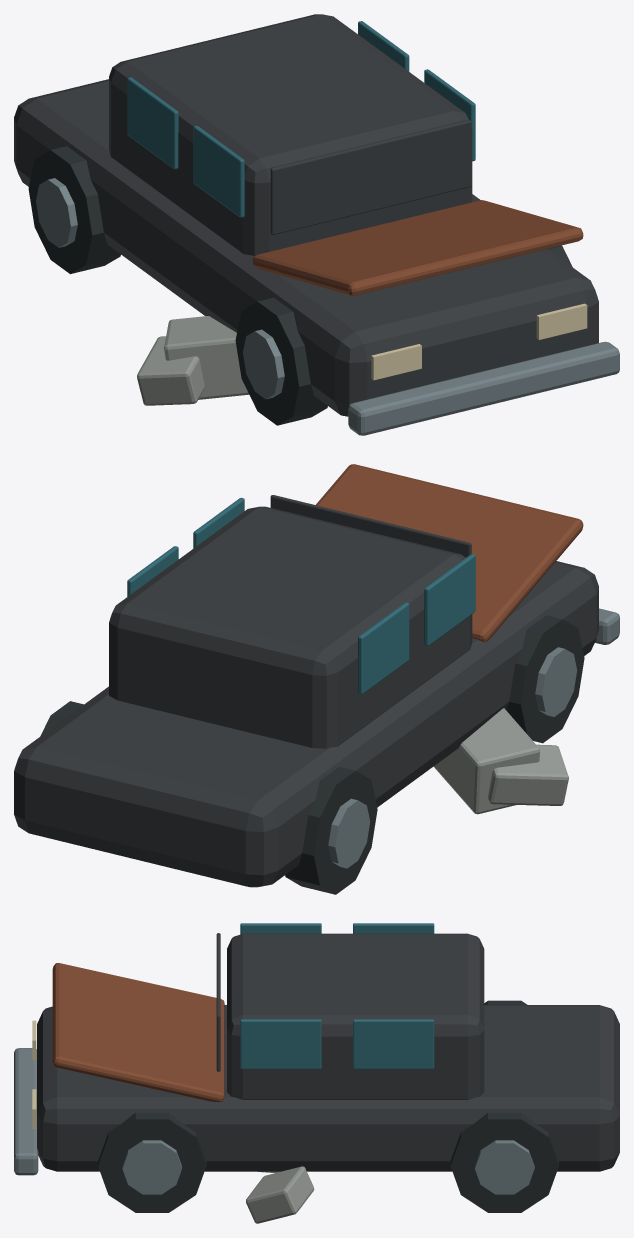
Rendered from burned-car.glb.
3 renders of one model, top to bottom at view 1: azimuth 30°, elevation 25°; view 2: azimuth 150°, elevation 25°; view 3: azimuth 270°, elevation 25°, orthographic. The views are drawn at different scales.
Visible parts, largest first — view 1: burned-car.001; view 2: burned-car.001; view 3: burned-car.001.
Part boxes in pixels (x1,y1,x2,y2): burned-car.001: (14, 14, 619, 435); burned-car.001: (14, 464, 619, 894); burned-car.001: (14, 923, 619, 1223).
Size of the model in its own units: 3.05 by 1.61 by 4.47.
